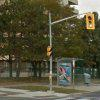Traffic light: (80, 9, 100, 36)
